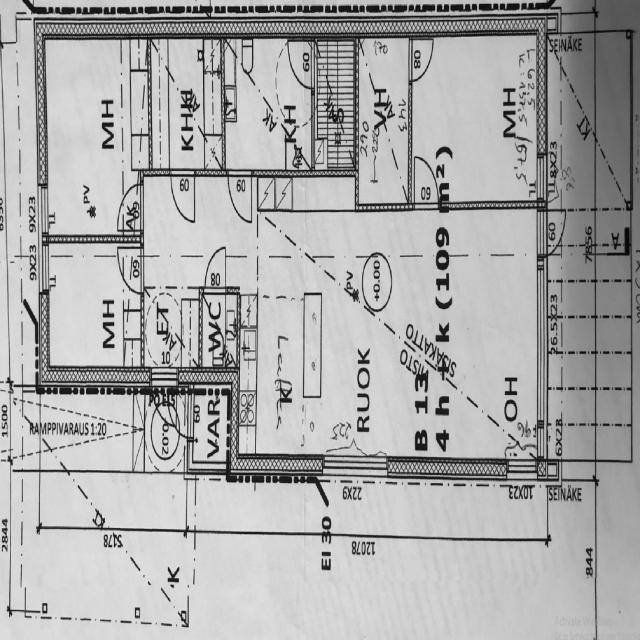door: (169, 165, 198, 227), (411, 150, 441, 207), (226, 165, 254, 226), (116, 178, 144, 232), (286, 37, 314, 91), (115, 242, 144, 293), (408, 33, 436, 84), (203, 242, 230, 293), (546, 206, 567, 256)
window: (532, 264, 550, 440), (322, 447, 379, 479), (503, 442, 539, 484), (35, 179, 51, 238), (149, 367, 179, 395), (38, 239, 52, 297), (53, 379, 82, 400), (624, 201, 634, 235)
zone: (238, 202, 543, 466), (411, 34, 541, 208), (43, 38, 145, 244), (43, 240, 142, 378), (221, 36, 312, 173), (148, 36, 223, 172), (358, 36, 412, 212), (314, 32, 356, 171), (142, 284, 201, 368), (190, 382, 233, 476), (201, 290, 238, 370), (410, 151, 443, 208)
